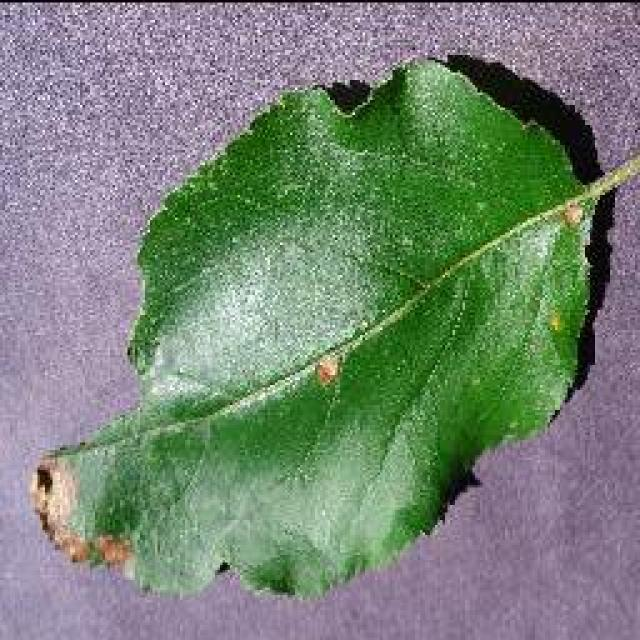Black_rot: (28, 52, 618, 602)
